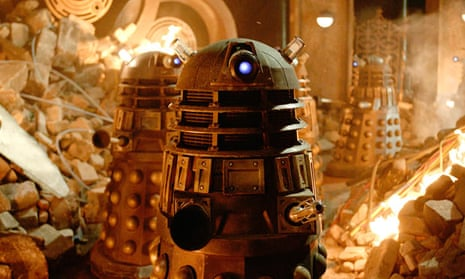dalek: (182, 28, 339, 279), (95, 29, 180, 268), (332, 42, 394, 156)
